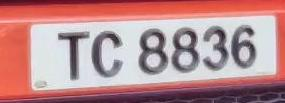3: (200, 20, 233, 78)
6: (228, 19, 263, 75)
8: (133, 22, 172, 83), (168, 21, 203, 81)
C: (87, 26, 129, 85)
T: (53, 25, 95, 88)
